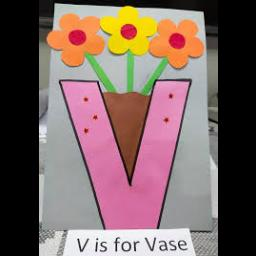v: (58, 77, 196, 237)
